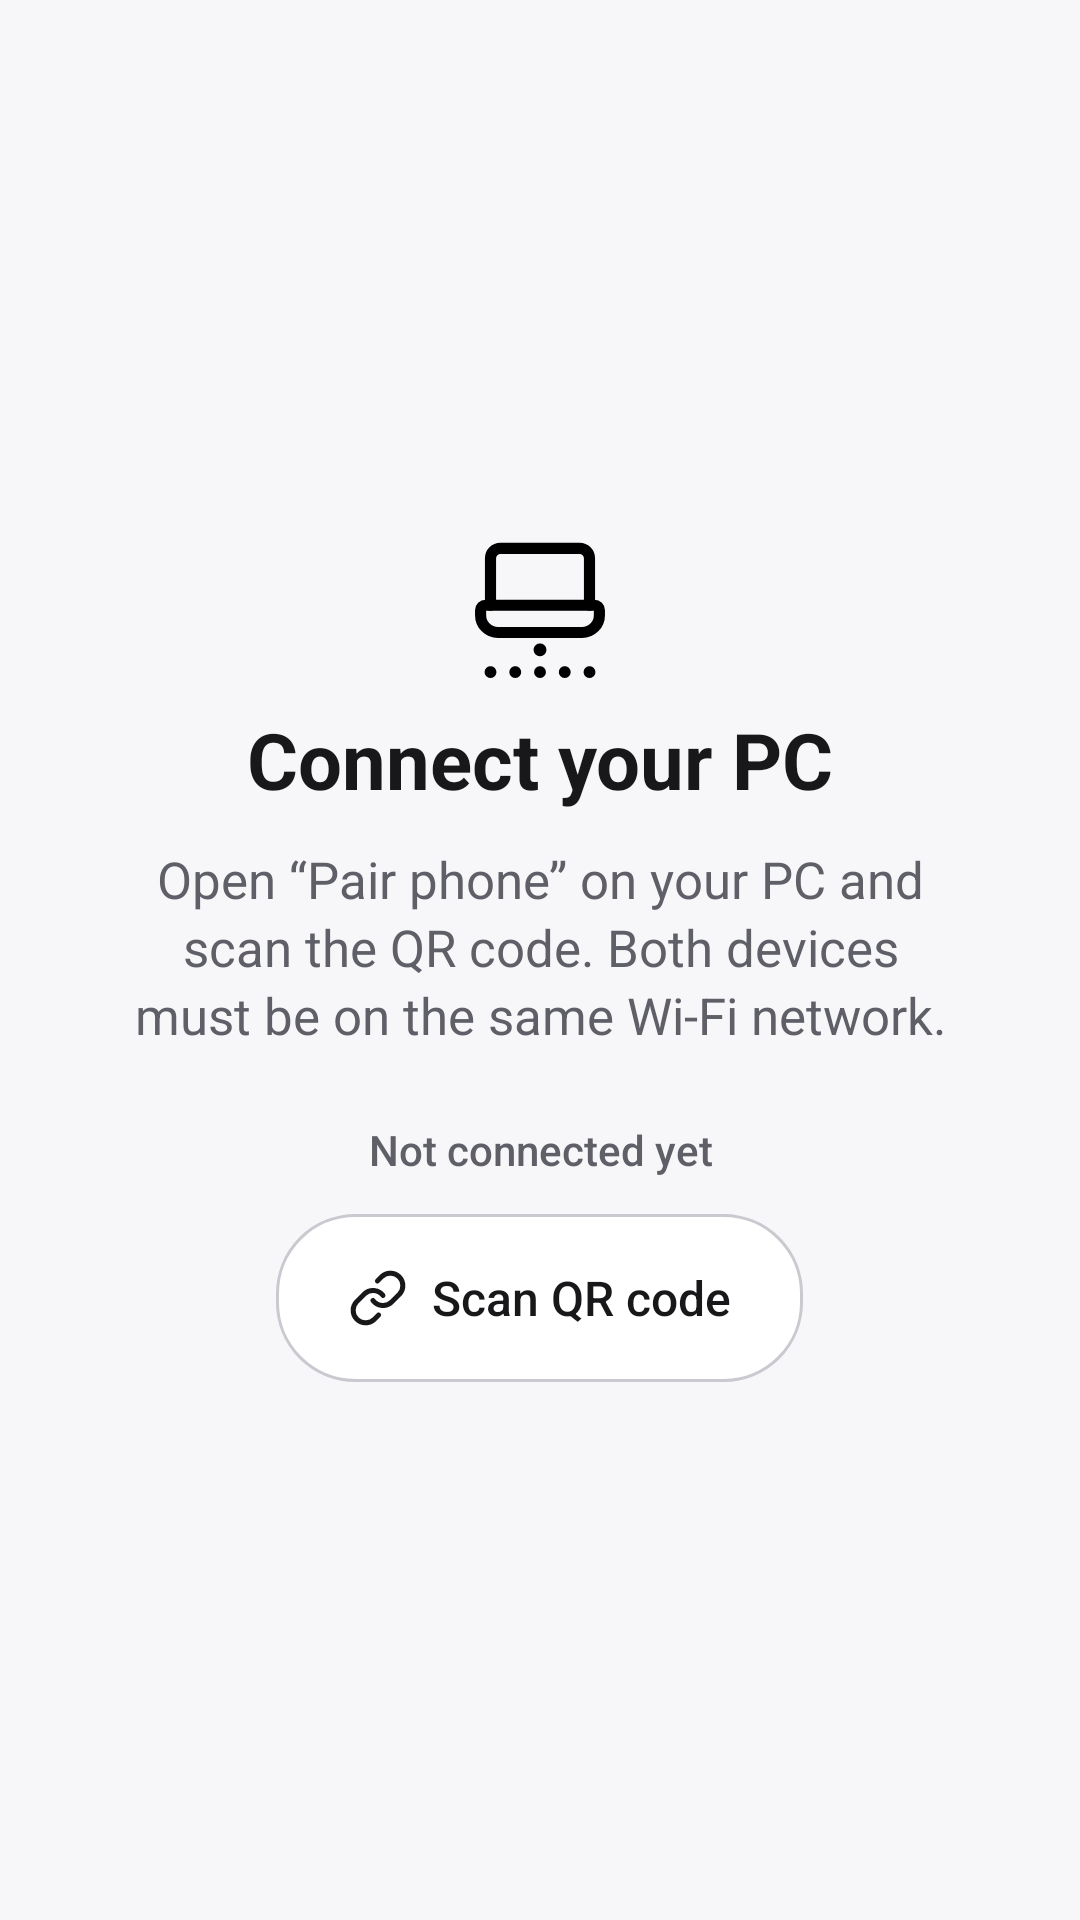

Where icons sit on this 1080w x 1920h app screen, as [x1=x1, y1=y1, x2=x2, y2=y2]:
link: [x1=350, y1=1270, x2=406, y2=1326]
remote mark pair: [x1=475, y1=542, x2=605, y2=678]
